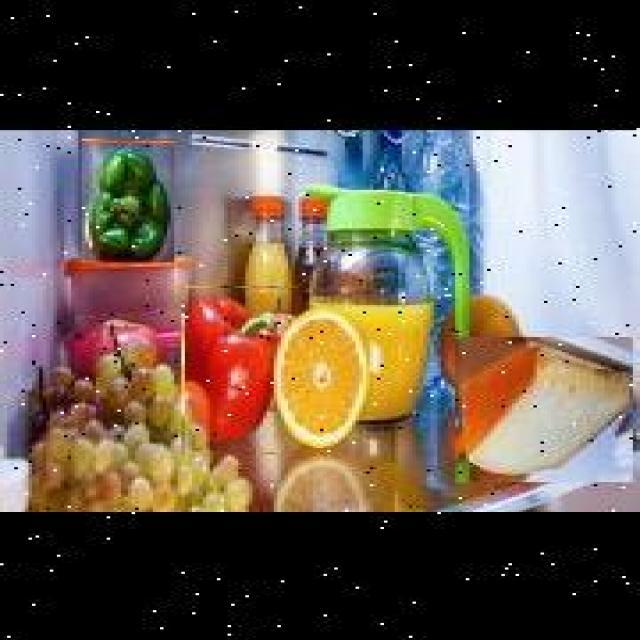bell_pepper: (184, 286, 282, 452), (82, 138, 175, 260)
cheese: (455, 337, 633, 482)
